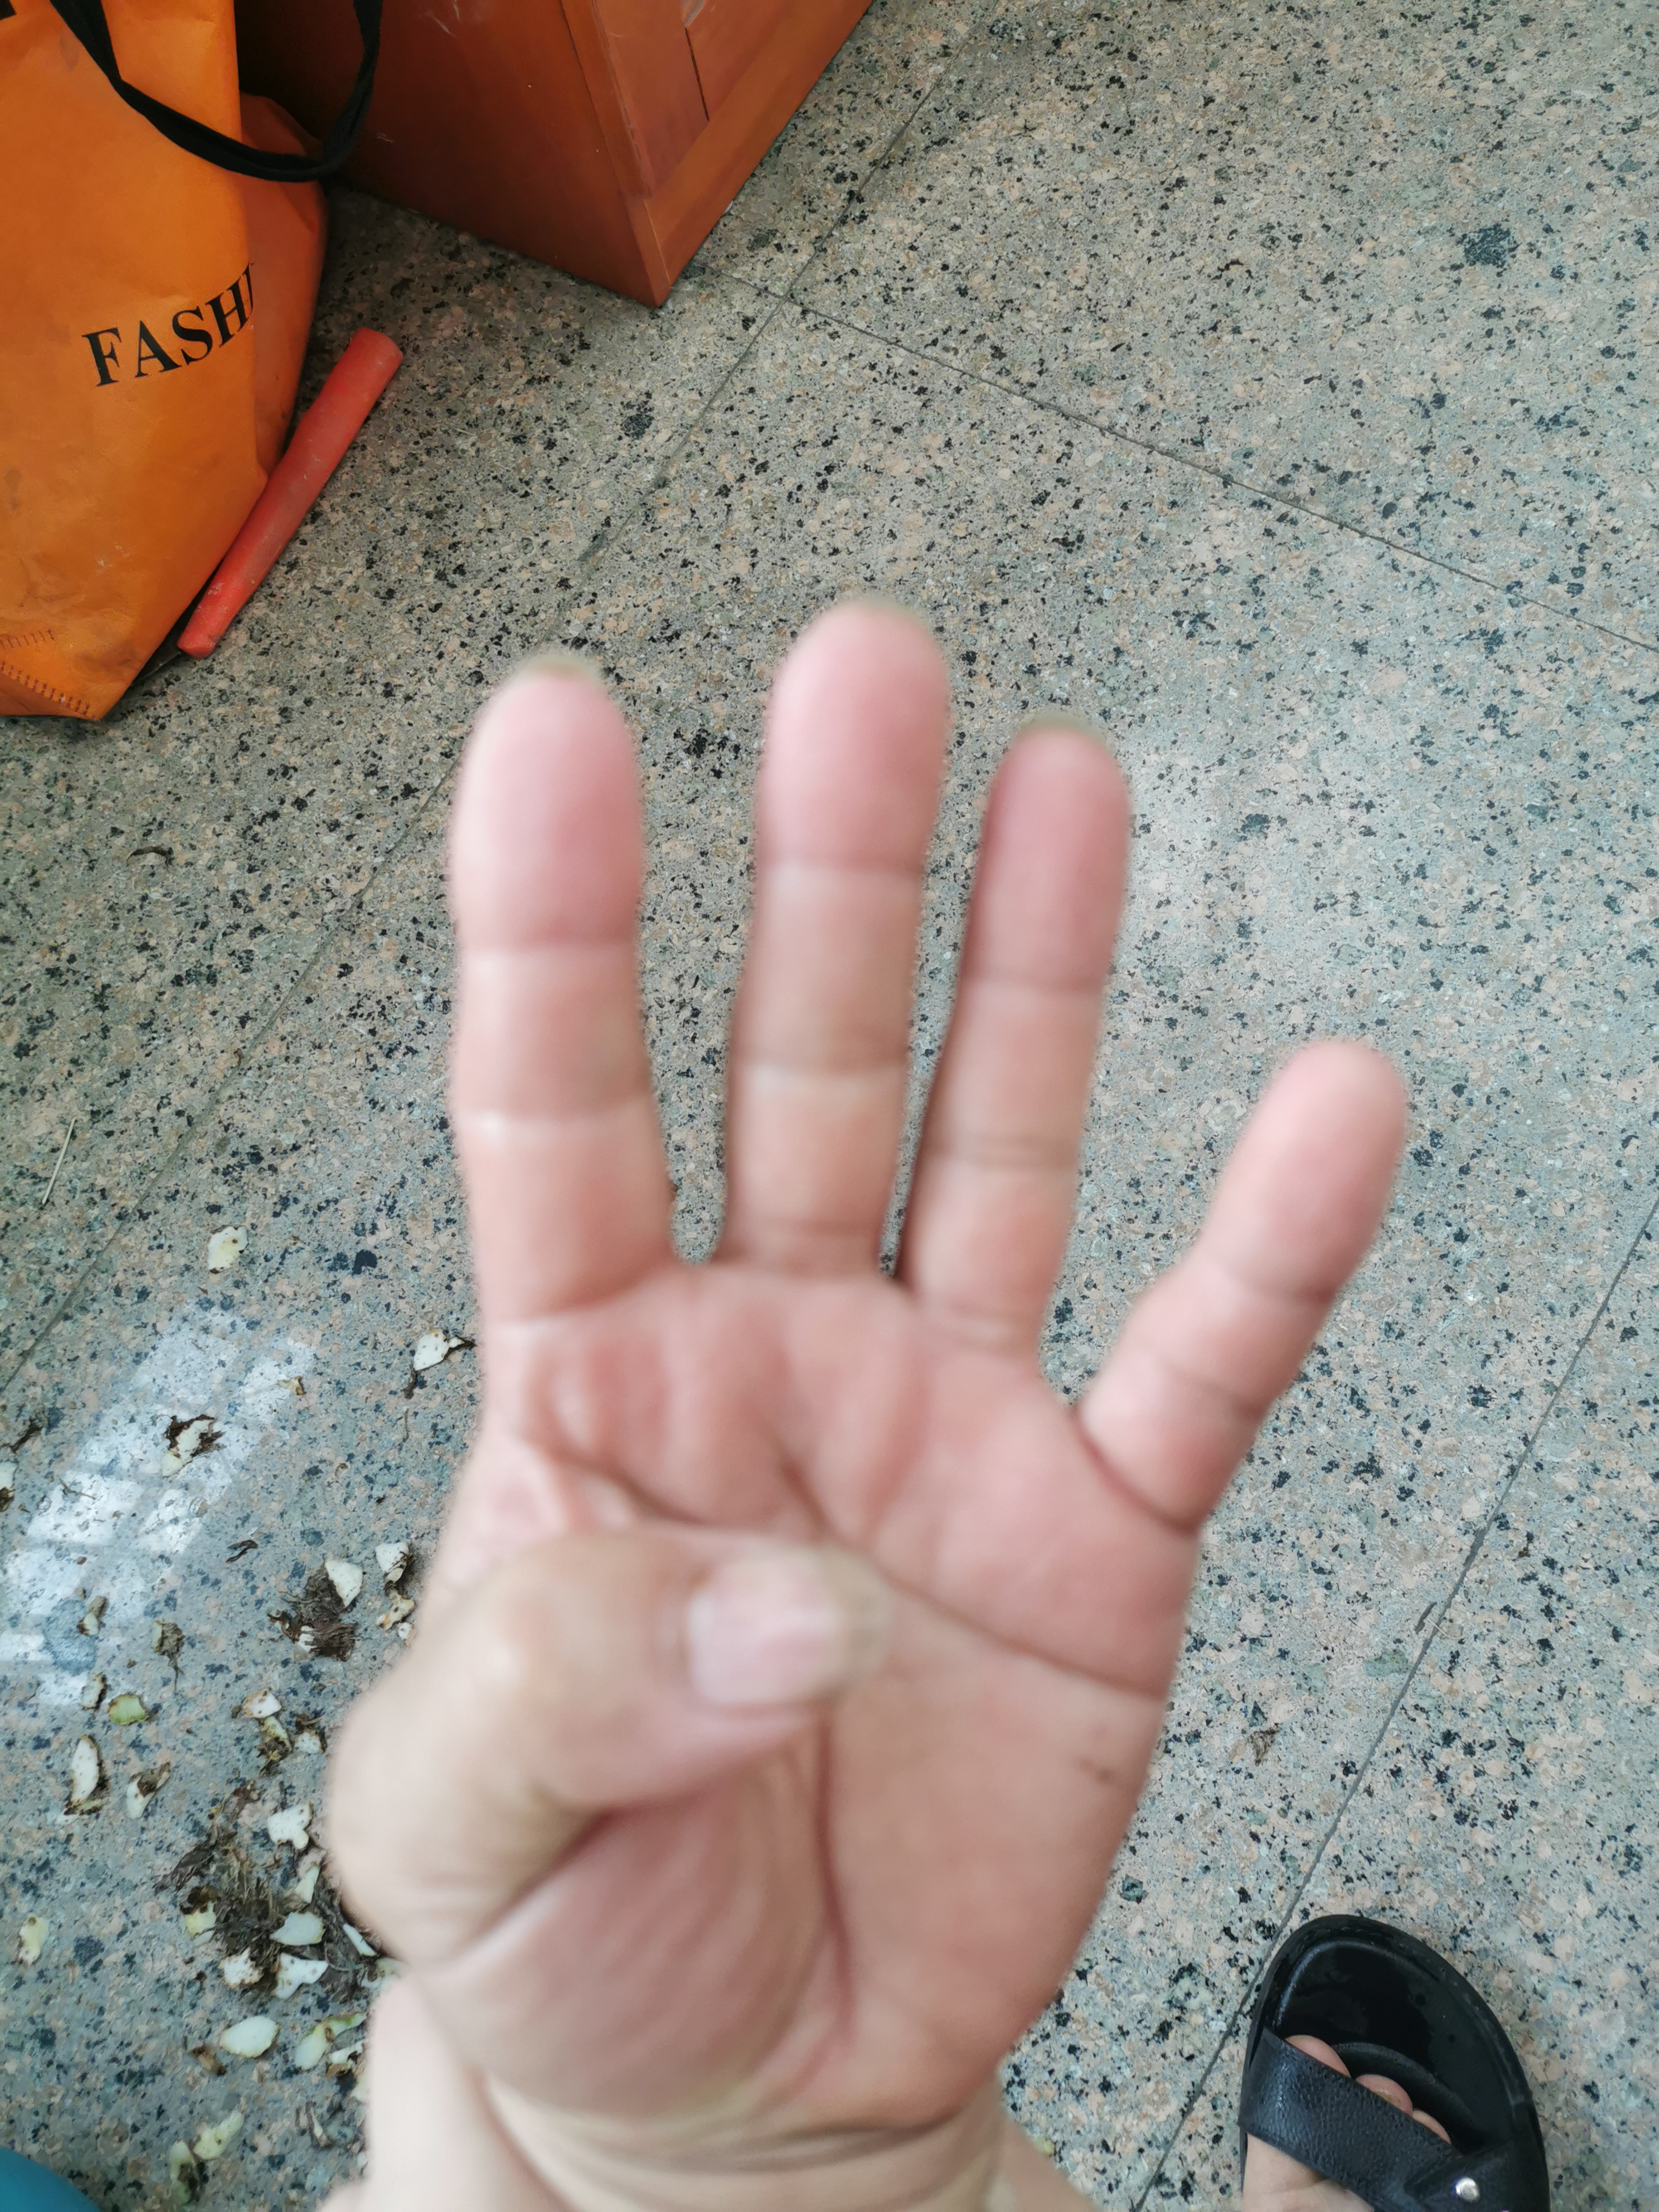right: (317, 582, 1459, 2137)
